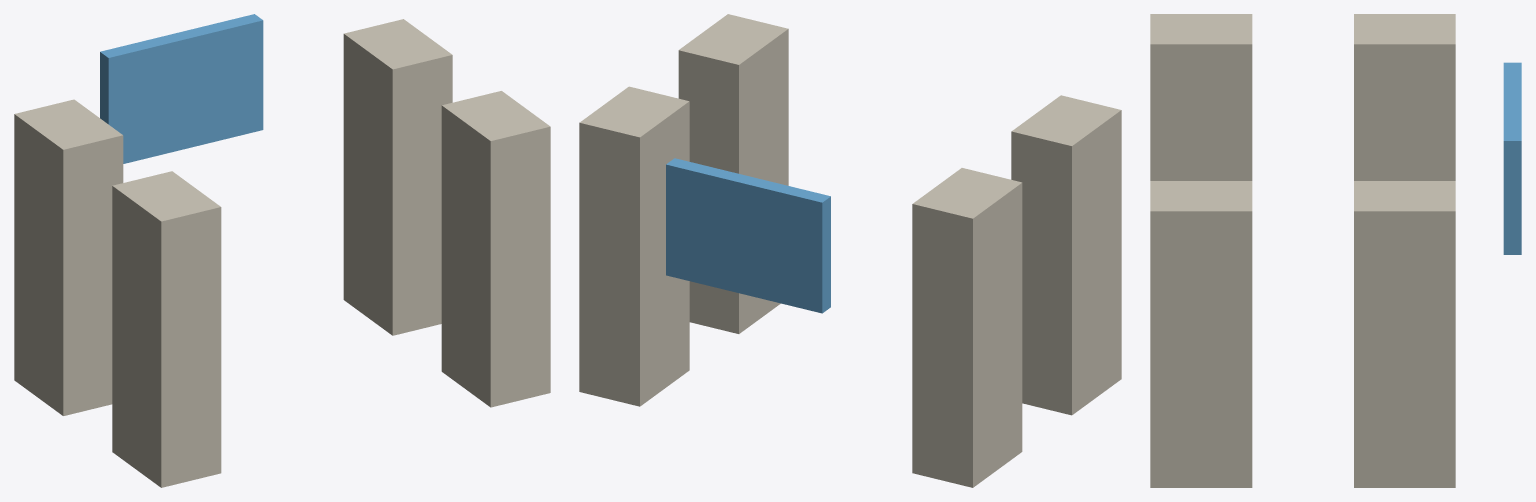
File: tower_theme_castle.glb
The picture shows the model from 3 angles, left to right: view 1: azimuth 30°, elevation 25°; view 2: azimuth 150°, elevation 25°; view 3: azimuth 270°, elevation 25°; orthographic projection. The views are drawn at different scales.
Visible parts, largest first — view 1: GEO_CastleButtress_1, GEO_CastleButtress_2, GEO_CastleButtress_4, GEO_CastleButtress_3, GEO_CastleBanner; view 2: GEO_CastleButtress_3, GEO_CastleButtress_1, GEO_CastleButtress_4, GEO_CastleBanner, GEO_CastleButtress_2; view 3: GEO_CastleButtress_2, GEO_CastleButtress_4, GEO_CastleButtress_1, GEO_CastleButtress_3, GEO_CastleBanner.
Part boxes in pixels (x1,y1,x2,y2): GEO_CastleButtress_1: (112,171,221,487); GEO_CastleButtress_2: (441,91,550,407); GEO_CastleButtress_4: (343,19,452,335); GEO_CastleButtress_3: (14,99,123,415); GEO_CastleBanner: (100,14,263,163); GEO_CastleButtress_3: (912,168,1022,487); GEO_CastleButtress_1: (1011,95,1121,415); GEO_CastleButtress_4: (579,86,689,406); GEO_CastleBanner: (666,158,830,313); GEO_CastleButtress_2: (678,14,788,333); GEO_CastleButtress_2: (1150,181,1252,487); GEO_CastleButtress_4: (1354,181,1455,487); GEO_CastleButtress_1: (1150,14,1252,180); GEO_CastleButtress_3: (1354,14,1455,180); GEO_CastleBanner: (1503,62,1521,254).
Bounding box in the file's own units: 1.56 × 1.06 × 1.24.
